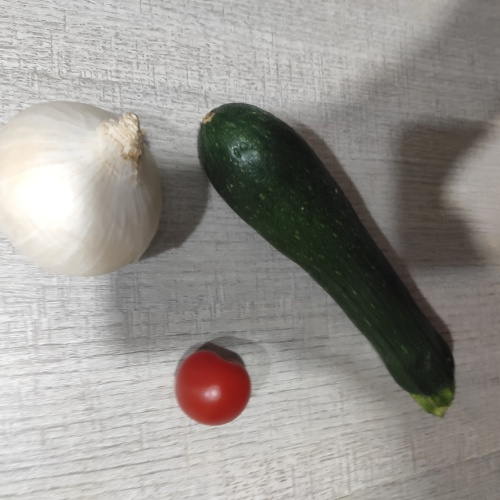cipolla: (13, 106, 160, 283)
pomodoro: (177, 346, 255, 429)
zucchine: (212, 104, 476, 413)
